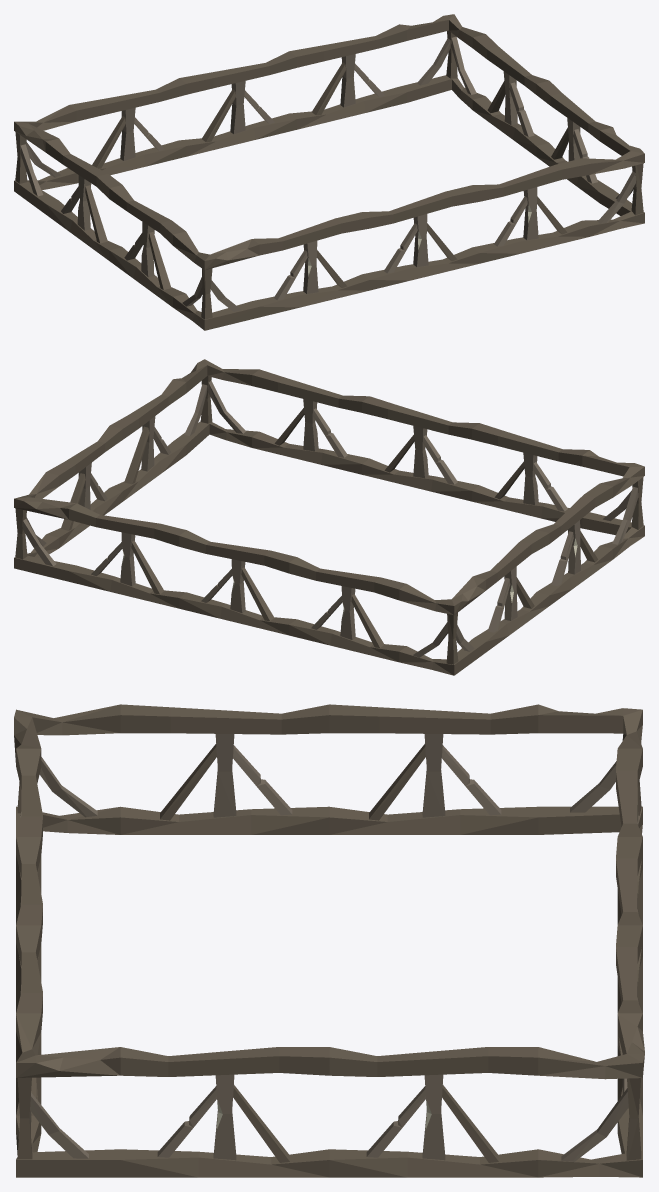
The model's file is _FENSE_FYULL.fbx.
3 renders of one model, top to bottom at view 1: azimuth 30°, elevation 25°; view 2: azimuth 150°, elevation 25°; view 3: azimuth 270°, elevation 25°, orthographic. The views are drawn at different scales.
Parts seen in each view (by area): view 1: FENSE_LINE_07, FENSE_LINE_08, FENSE_LINE_02, FENSE_LINE_06, FENSE_LINE_03, FENSE_LINE_01, FENDE_CORNER_04, FENSE_LINE_10, FENSE_LINE_09, FENSE_LINE_04, FENDE_CORNER_01, FENDE_CORNER_02 (+2 smaller); view 2: FENSE_LINE_03, FENSE_LINE_01, FENSE_LINE_02, FENSE_LINE_07, FENSE_LINE_06, FENSE_LINE_08, FENDE_CORNER_01, FENSE_LINE_09, FENSE_LINE_10, FENSE_LINE_05, FENDE_CORNER_02, FENDE_CORNER_04 (+2 smaller); view 3: FENSE_LINE_04, FENSE_LINE_05, FENSE_LINE_10, FENSE_LINE_09, FENDE_CORNER_03, FENDE_CORNER_02, FENDE_CORNER_01, FENDE_CORNER_04, FENSE_LINE_06, FENSE_LINE_07, FENSE_LINE_08, FENSE_LINE_01 (+2 smaller).
Boxes of the visible parts, x1,y1,x2,y2 form: FENSE_LINE_07: (362,185,479,290); FENSE_LINE_08: (252,212,369,317); FENSE_LINE_02: (179,51,296,156); FENSE_LINE_06: (472,158,589,263); FENSE_LINE_03: (289,24,406,129); FENSE_LINE_01: (69,78,186,183); FENDE_CORNER_04: (173,231,259,330); FENSE_LINE_10: (45,138,122,260); FENSE_LINE_09: (109,185,185,307); FENSE_LINE_04: (472,34,548,156); FENDE_CORNER_01: (14,105,76,213); FENDE_CORNER_02: (399,14,485,109); FENSE_LINE_03: (69,503,186,608); FENSE_LINE_01: (289,557,406,662); FENSE_LINE_02: (179,530,296,635); FENSE_LINE_07: (362,396,479,501); FENSE_LINE_06: (252,369,369,474); FENSE_LINE_08: (472,423,589,528); FENDE_CORNER_01: (399,576,485,675); FENSE_LINE_09: (536,483,612,605); FENSE_LINE_10: (473,530,549,652); FENSE_LINE_05: (110,379,186,501); FENDE_CORNER_02: (14,472,76,581); FENDE_CORNER_04: (582,450,644,559); FENSE_LINE_04: (329,1047,538,1177); FENSE_LINE_05: (120,1047,329,1177); FENSE_LINE_10: (329,704,538,834); FENSE_LINE_09: (120,704,329,834); FENDE_CORNER_03: (16,1013,120,1177); FENDE_CORNER_02: (538,1013,644,1177); FENDE_CORNER_01: (538,704,642,834); FENDE_CORNER_04: (14,704,120,836); FENSE_LINE_06: (16,925,42,1115); FENSE_LINE_07: (16,837,42,1012); FENSE_LINE_08: (16,748,42,924); FENSE_LINE_01: (616,748,642,924).
Bounding box in the file's own units: 804 × 127 × 604.
